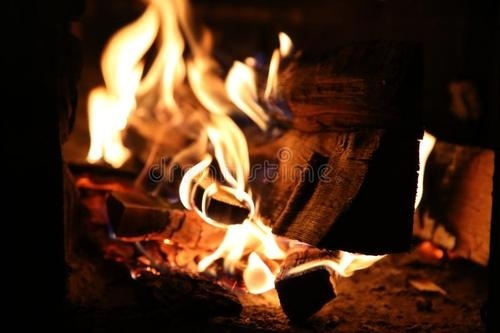fire: (84, 0, 287, 151), (179, 118, 264, 220), (200, 220, 286, 294), (287, 247, 386, 279), (225, 49, 260, 109), (265, 27, 293, 101), (415, 127, 435, 211)
